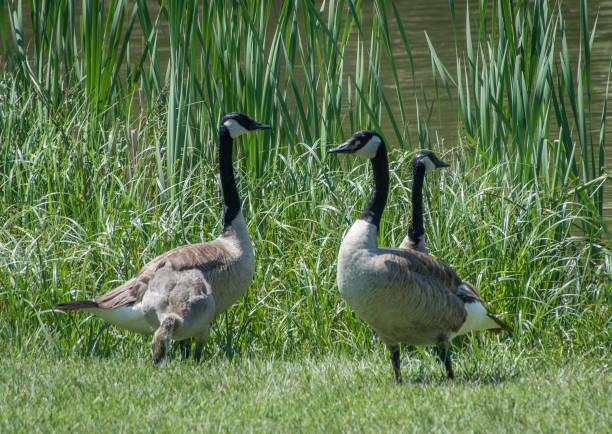Canadian-Goose: (60, 111, 288, 350), (321, 129, 505, 380), (143, 271, 217, 358), (395, 146, 452, 251)
